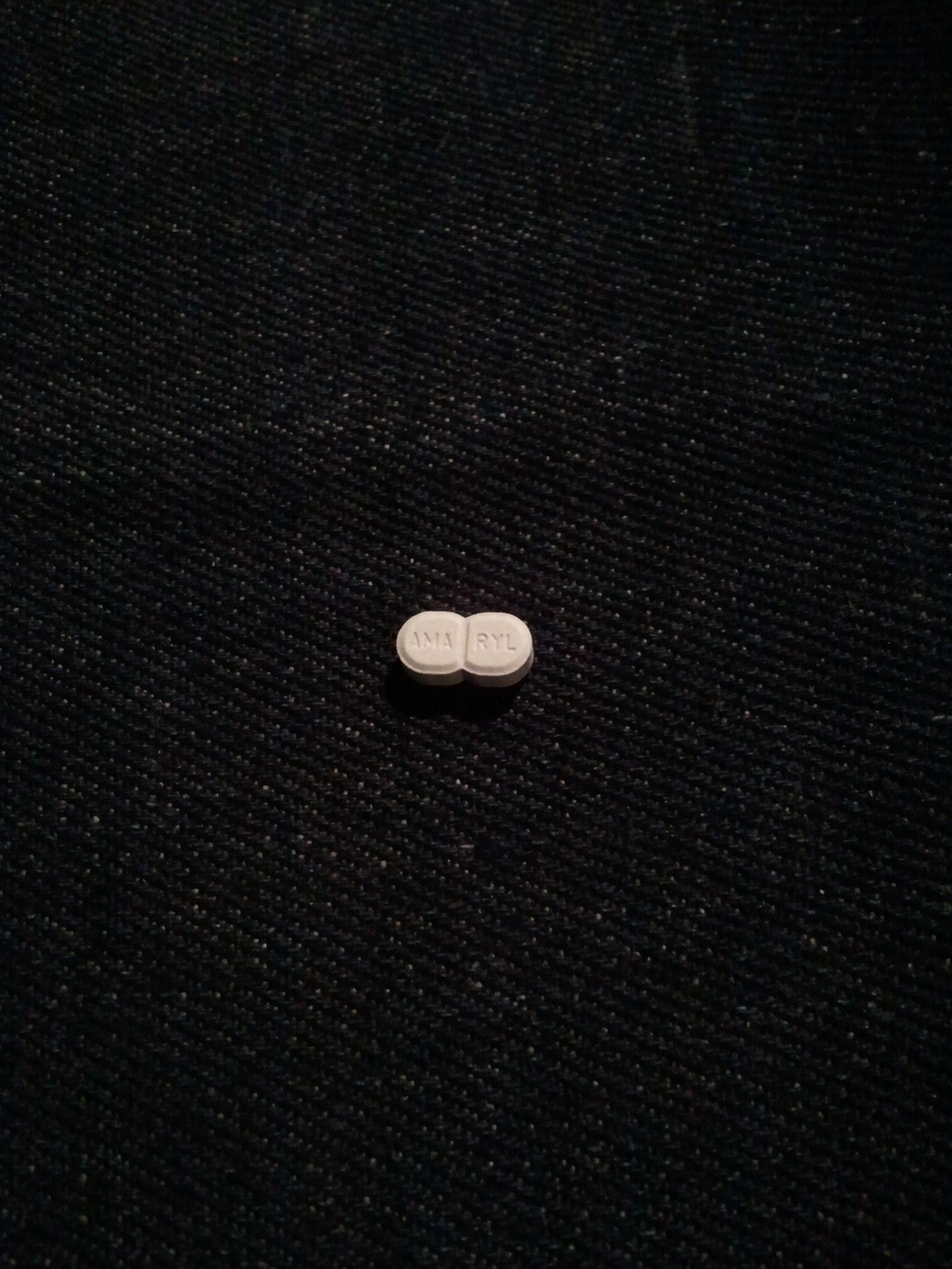Pill: (372, 595, 552, 704)
